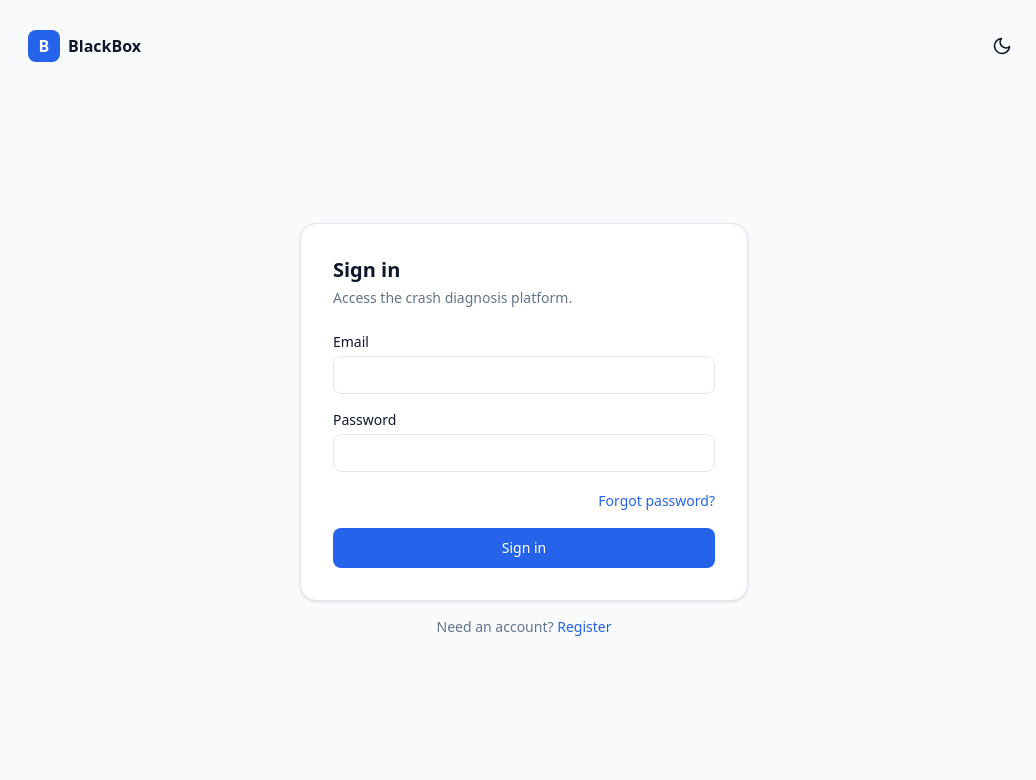
LoginPage › links to registration
The image size is (1036, 780).
What coordinates should you click on to do the following:
click the link "Register"
I would click on:
 (584, 626)
Its box is left=557, top=617, right=612, bottom=636.
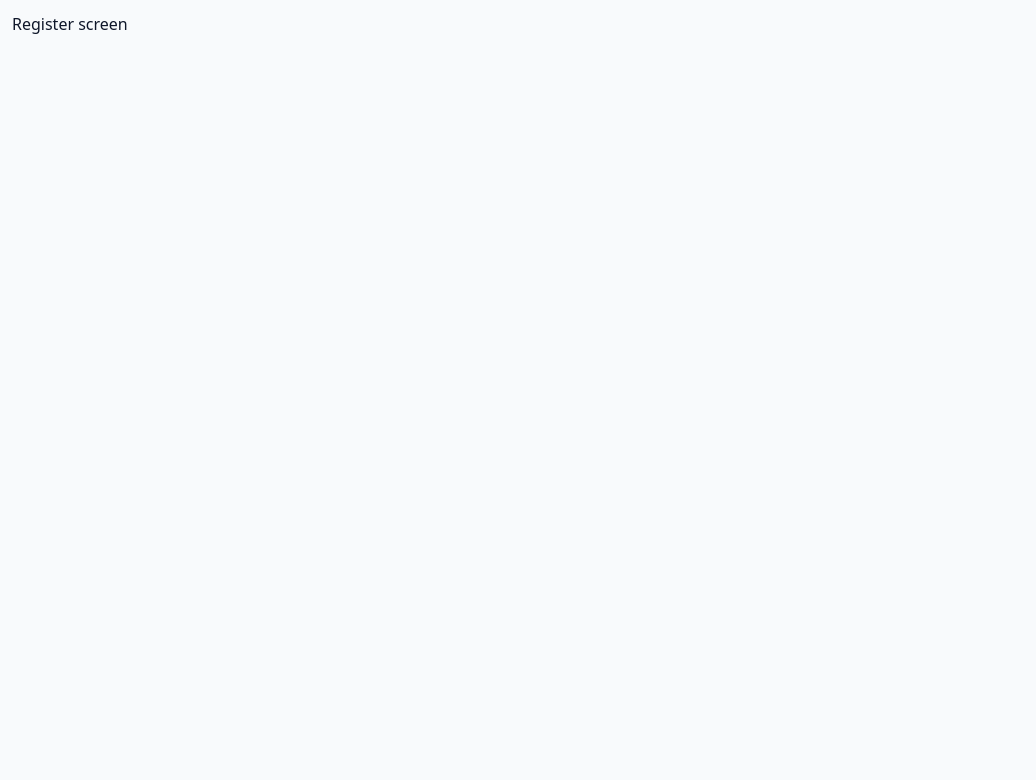
Expected: the text "Register screen" is shown, left=12, top=13, right=128, bottom=35
